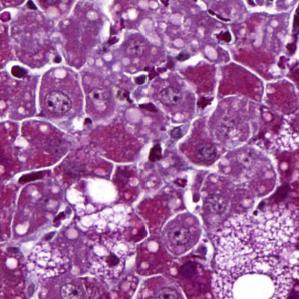ballooning: (65, 177, 120, 220)
